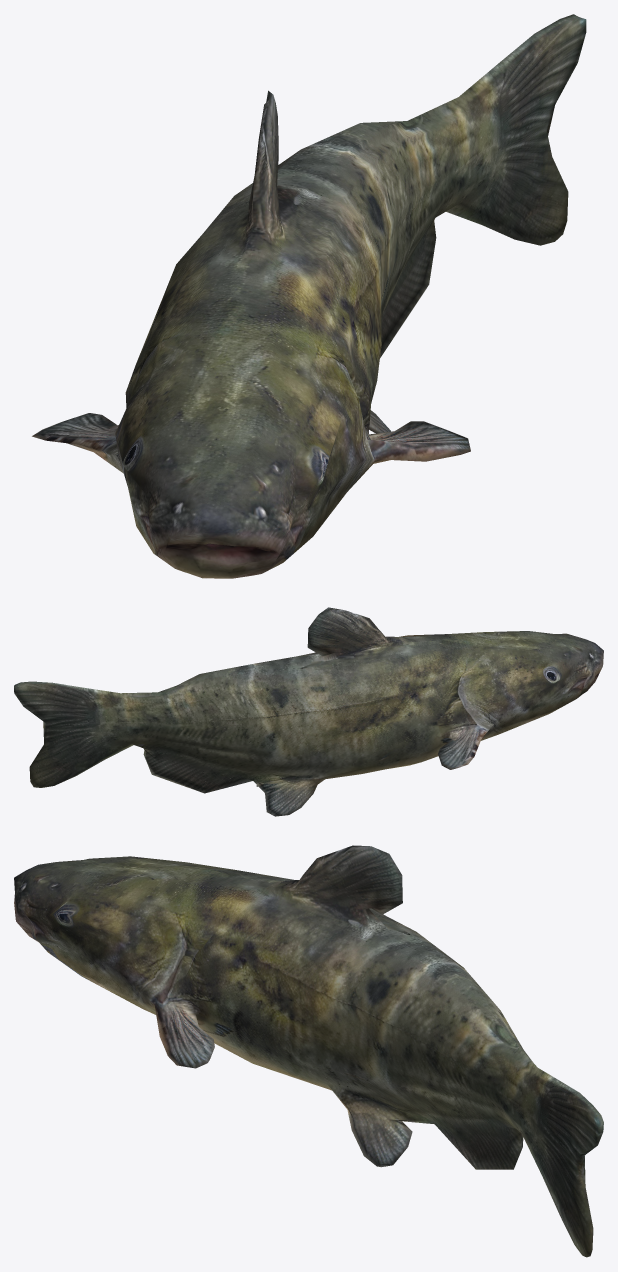
Rendered from chcat.glb.
The picture shows the model from 3 angles, top to bottom: view 1: azimuth 30°, elevation 25°; view 2: azimuth 150°, elevation 25°; view 3: azimuth 270°, elevation 25°; orthographic projection. The views are drawn at different scales.
Visible parts, largest first — view 1: tripo_node_bba18dde; view 2: tripo_node_bba18dde; view 3: tripo_node_bba18dde.
Part boxes in pixels (bbox=[...]): tripo_node_bba18dde: bbox=[32, 14, 586, 578]; tripo_node_bba18dde: bbox=[14, 607, 603, 816]; tripo_node_bba18dde: bbox=[14, 845, 603, 1257].
Bounding box in the file's own units: 87.45 × 40.22 × 77.82.
Materials: 1 (1 with a texture image).
